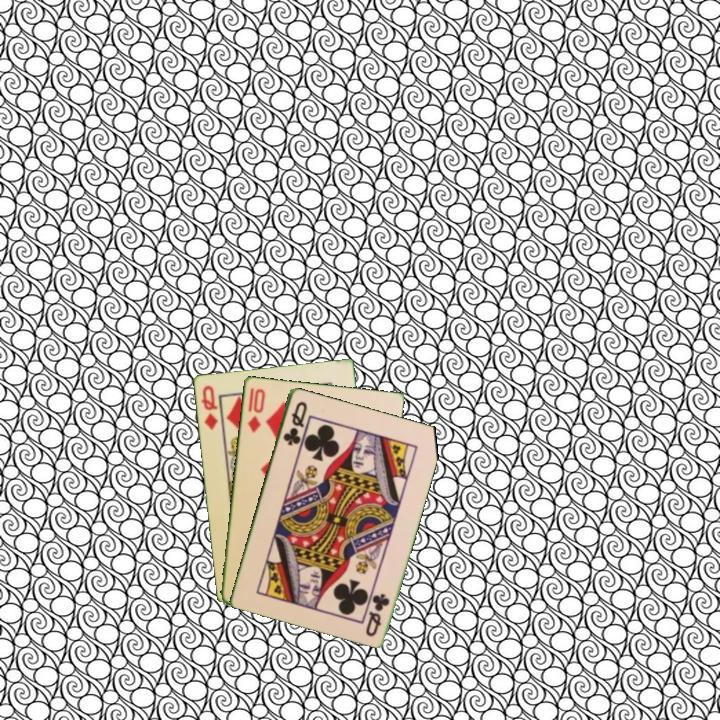10d: (244, 384, 268, 435)
Qc: (279, 397, 310, 449), (362, 589, 392, 639)
Qd: (197, 382, 221, 433)
